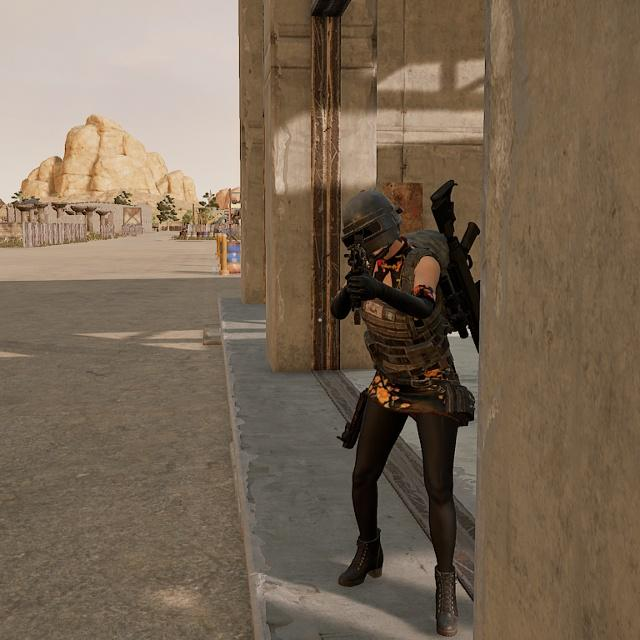head: (335, 183, 414, 275)
people: (327, 178, 477, 631)
